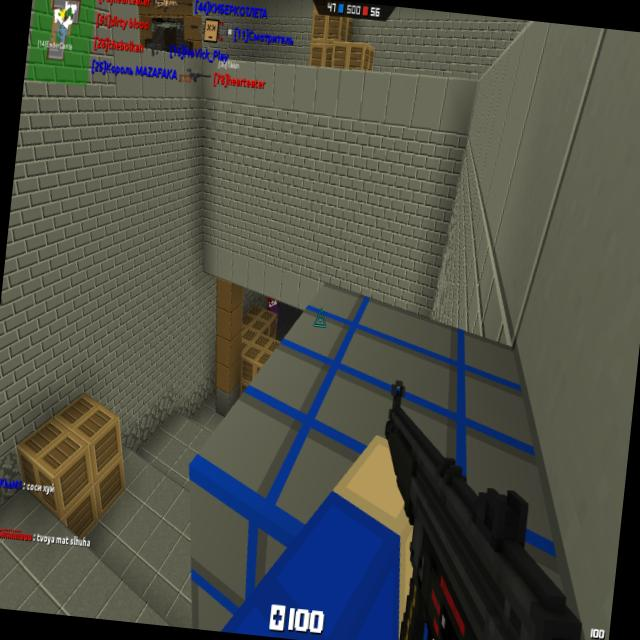enemy: (264, 297, 280, 334)
